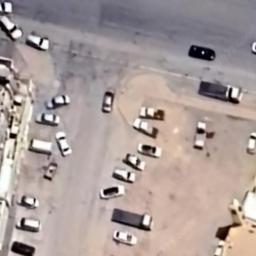SUV: (23, 31, 53, 53), (0, 14, 23, 42), (111, 166, 137, 184)
pickup: (133, 118, 160, 140), (136, 105, 168, 121)
sedan: (188, 41, 219, 63), (122, 151, 147, 174), (43, 93, 73, 111), (110, 228, 139, 246), (136, 140, 164, 158), (34, 110, 61, 128), (16, 191, 40, 211), (99, 184, 126, 201), (56, 130, 72, 158), (102, 84, 116, 114), (11, 241, 38, 256), (246, 132, 256, 154), (0, 0, 14, 14), (251, 38, 256, 54)
truck: (197, 78, 245, 106), (110, 206, 155, 232), (194, 120, 208, 150)
van: (12, 214, 46, 234)
